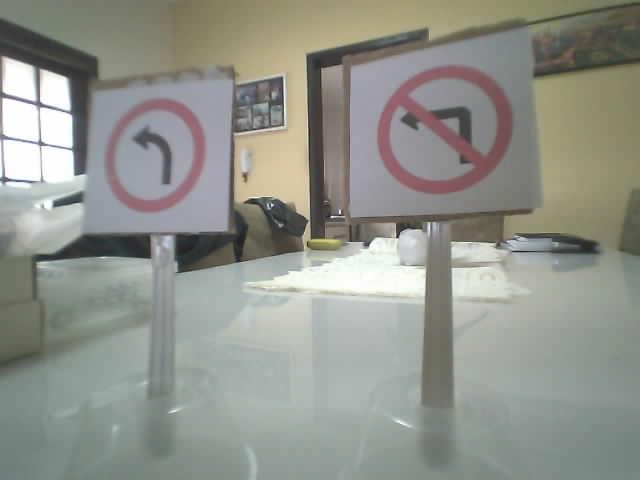R-25a_esquerda: (102, 98, 206, 213)
R-4a_proibido-esquerda: (375, 64, 513, 195)
